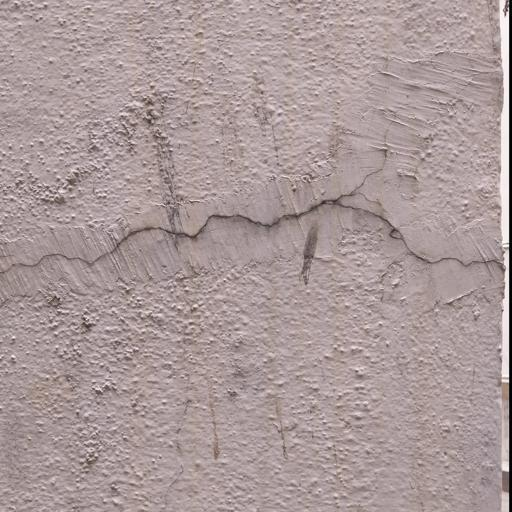minor_crack: (2, 107, 505, 302)
